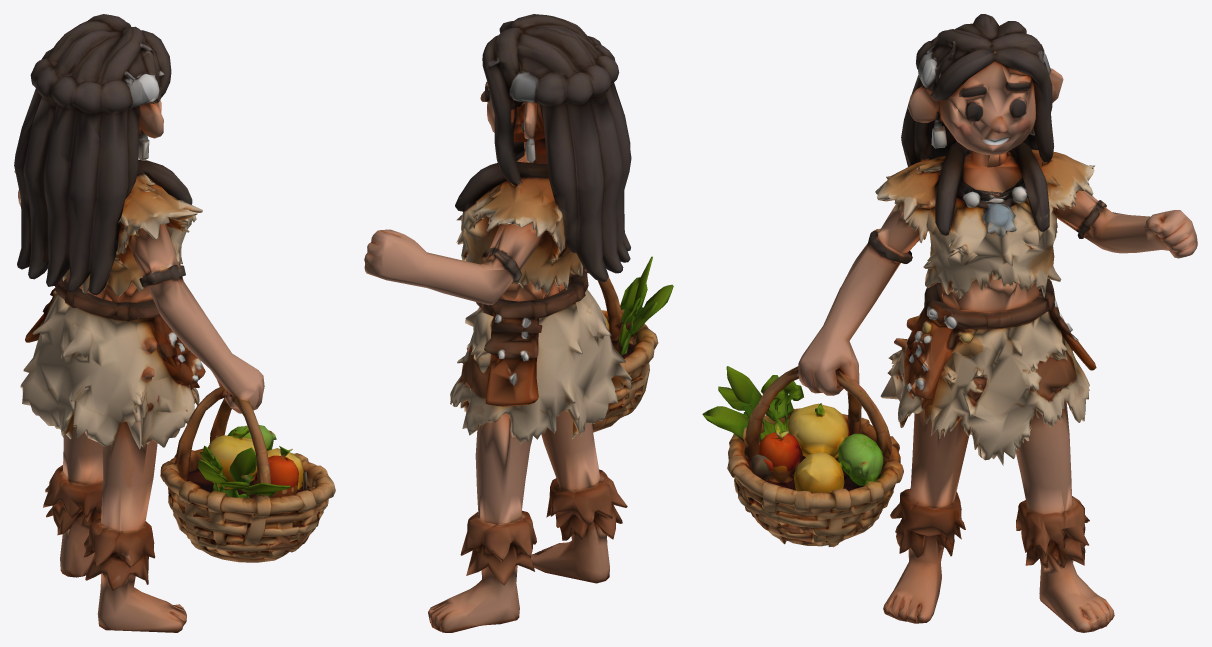
File: prehistoric-woman.glb
3 views of the same model, side by side, from view 1: azimuth 30°, elevation 25°; view 2: azimuth 150°, elevation 25°; view 3: azimuth 270°, elevation 25° (orthographic).
Visible parts, largest first — view 1: tripo_node_70951f36-2c03-4d35-bd2b-fa675a0f0627; view 2: tripo_node_70951f36-2c03-4d35-bd2b-fa675a0f0627; view 3: tripo_node_70951f36-2c03-4d35-bd2b-fa675a0f0627.
Boxes of the visible parts, x1,y1,x2,y2 form: tripo_node_70951f36-2c03-4d35-bd2b-fa675a0f0627: (14, 14, 335, 632); tripo_node_70951f36-2c03-4d35-bd2b-fa675a0f0627: (364, 14, 673, 632); tripo_node_70951f36-2c03-4d35-bd2b-fa675a0f0627: (702, 14, 1197, 632).
Bounding box in the file's own units: 0.3756 × 0.9787 × 0.7577.
1 material, 1 textured.
